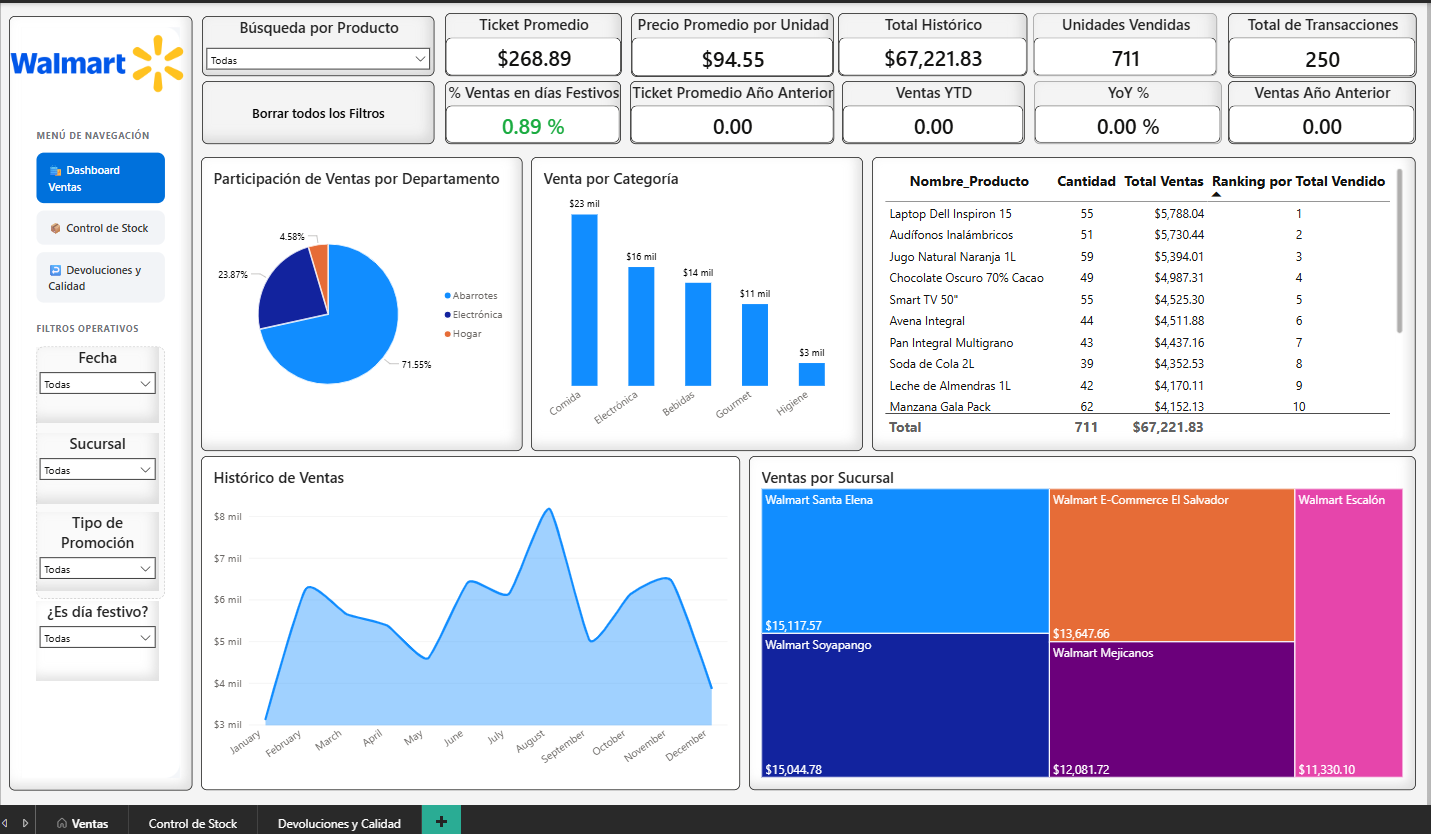

What the dashboard file says about the page in this screenshot:
{"tool":"powerbi","page":{"name":"Ventas","canvas":[1920,1080],"ordinal":0},"visuals":[{"type":"htmlContent443BE3AD55E043BF878BED274D3A6865","fields":{"content":["Medidas.Barra_Lateral_Ventas"]},"box":[10.9,17.2,247,1042.9],"z":0},{"type":"cardVisual","title":"Total de Transacciones","fields":{"Data":["Medidas.Numero de Transacciones"]},"box":[1652.4,13.9,253.7,86.9],"z":1000},{"type":"cardVisual","title":"Unidades Vendidas","fields":{"Data":["Medidas.Total Unidades Vendidas"]},"box":[1390,13.9,248.5,85.1],"z":2000},{"type":"cardVisual","title":"Ticket Promedio","fields":{"Data":["Medidas.Ticket Promedio"]},"box":[597.7,13.9,238,85.1],"z":3000},{"type":"cardVisual","title":"Precio Promedio por Unidad","fields":{"Data":["Medidas.Precio Promedio por Unidad"]},"box":[848.4,13.5,273.4,86.2],"z":4000},{"type":"tableEx","fields":{"Values":["vDim_Productos.Nombre_Producto","Sum(vFact_Ventas.Cantidad)","Medidas.Total Ventas","Medidas.Ranking Productos por Ventas"]},"box":[1172.9,206.8,731.5,396.2],"z":5000},{"type":"columnChart","title":"Venta por Categoría","fields":{"Category":["vDim_Productos.Categoria"],"Y":["Medidas.Total Ventas"]},"box":[714.1,206.8,446.6,396.2],"z":6000},{"type":"pieChart","title":"Participación de Ventas por Departamento","fields":{"Category":["vDim_Departamentos.Nombre_Departamento"],"Y":["Medidas.Total Ventas"]},"box":[269.3,206.8,432.7,396.2],"z":7000},{"type":"lineChart","title":"Histórico de Ventas","fields":{"Category":["vDim_Calendario.Anio Jerarquía.Anio","vDim_Calendario.Anio Jerarquía.Nombre_Mes"],"Y":["Medidas.Total Ventas"]},"box":[269.8,610.6,726.5,449.7],"z":8000},{"type":"treemap","title":"Ventas por Sucursal","fields":{"Group":["vDim_Tiendas.Nombre_Tienda"],"Values":["Medidas.Total Ventas"]},"box":[1006.7,610.6,897.7,449.7],"z":9000},{"type":"actionButton","title":"Ventas","box":[39.8,195.5,190.3,83],"z":10000},{"type":"image","box":[0,13.9,258,135],"z":11000},{"type":"actionButton","title":"Ventas","box":[34.6,278.5,190.3,48.4],"z":12000},{"type":"actionButton","title":"Ventas","box":[34.6,342.5,190.3,65.7],"z":13000},{"type":"slicer","title":"Fecha","fields":{"Values":["vDim_Calendario.Anio","vDim_Calendario.Nombre_Mes"]},"box":[46.9,462.8,165.7,101.6],"z":14000},{"type":"slicer","title":"Sucursal","fields":{"Values":["vDim_Tiendas.Nombre_Tienda"]},"box":[46.9,578.5,165.7,95.4],"z":15000},{"type":"slicer","title":"Tipo de Promoción","fields":{"Values":["vDim_Promociones.Tipo_Promocion"]},"box":[46.9,684.8,165.7,106.3],"z":16000},{"type":"slicer","title":"¿Es día festivo?","fields":{"Values":["vDim_Calendario.Es_Festivo"]},"box":[46.9,805.2,165.7,107.9],"z":17000},{"type":"cardVisual","title":"Ventas Año Anterior","fields":{"Data":["Medidas.Ventas_Año_Anterior_Supr_Inteligente"]},"box":[1651.9,105.5,252.5,84.8],"z":18000},{"type":"cardVisual","title":"YoY %","fields":{"Data":["Medidas.YoY_Porcentaje_Seguro"]},"box":[1390.7,105.5,252.5,84.8],"z":19000},{"type":"cardVisual","title":"Ventas YTD","fields":{"Data":["Medidas.Ventas YTD"]},"box":[1133,105.5,245.6,84.8],"z":20000},{"type":"cardVisual","title":"Ticket Promedio Año Anterior","fields":{"Data":["Medidas.Ticket_Promedio_Año_Anterior_Seguro"]},"box":[847.6,105.5,275,84.8],"z":21000},{"type":"cardVisual","title":"% Ventas en días Festivos","fields":{"Data":["Medidas.Porcentaje_Ventas_Festivos_Seguro"]},"box":[598.5,105.5,237,84.8],"z":22000},{"type":"cardVisual","title":"Total Histórico","fields":{"Data":["Medidas.Ventas_Totales_Historicas"]},"box":[1127.7,13.9,255.4,85.1],"z":23000},{"type":"slicer","title":"Búsqueda por Producto","fields":{"Values":["vDim_Productos.Nombre_Producto"]},"box":[270.1,17.3,313.4,81.4],"z":24000},{"type":"actionButton","box":[270.1,105.6,313.4,84.8],"z":25000}]}

Visuals, with their boxes on the page's 1920x1080 design canvas (x1, y1, x2, y2). These are canvas units, not pixel positions in the 1431x834 screenshot, which may show the page scaled, cropped or inside an application window:
htmlContent443BE3AD55E043BF878BED274D3A6865 - Medidas.Barra_Lateral_Ventas: 11,17,258,1060
"Total de Transacciones" cardVisual: 1652,14,1906,101
"Unidades Vendidas" cardVisual: 1390,14,1638,99
"Ticket Promedio" cardVisual: 598,14,836,99
"Precio Promedio por Unidad" cardVisual: 848,14,1122,100
tableEx - vDim_Productos.Nombre_Producto x Sum(vFact_Ventas.Cantidad): 1173,207,1904,603
"Venta por Categoría" columnChart: 714,207,1161,603
"Participación de Ventas por Departamento" pieChart: 269,207,702,603
"Histórico de Ventas" lineChart: 270,611,996,1060
"Ventas por Sucursal" treemap: 1007,611,1904,1060
"Ventas" actionButton: 40,196,230,278
image: 0,14,258,149
"Ventas" actionButton: 35,278,225,327
"Ventas" actionButton: 35,342,225,408
"Fecha" slicer: 47,463,213,564
"Sucursal" slicer: 47,578,213,674
"Tipo de Promoción" slicer: 47,685,213,791
"¿Es día festivo?" slicer: 47,805,213,913
"Ventas Año Anterior" cardVisual: 1652,106,1904,190
"YoY %" cardVisual: 1391,106,1643,190
"Ventas YTD" cardVisual: 1133,106,1379,190
"Ticket Promedio Año Anterior" cardVisual: 848,106,1123,190
"% Ventas en días Festivos" cardVisual: 598,106,836,190
"Total Histórico" cardVisual: 1128,14,1383,99
"Búsqueda por Producto" slicer: 270,17,584,99
actionButton: 270,106,584,190
